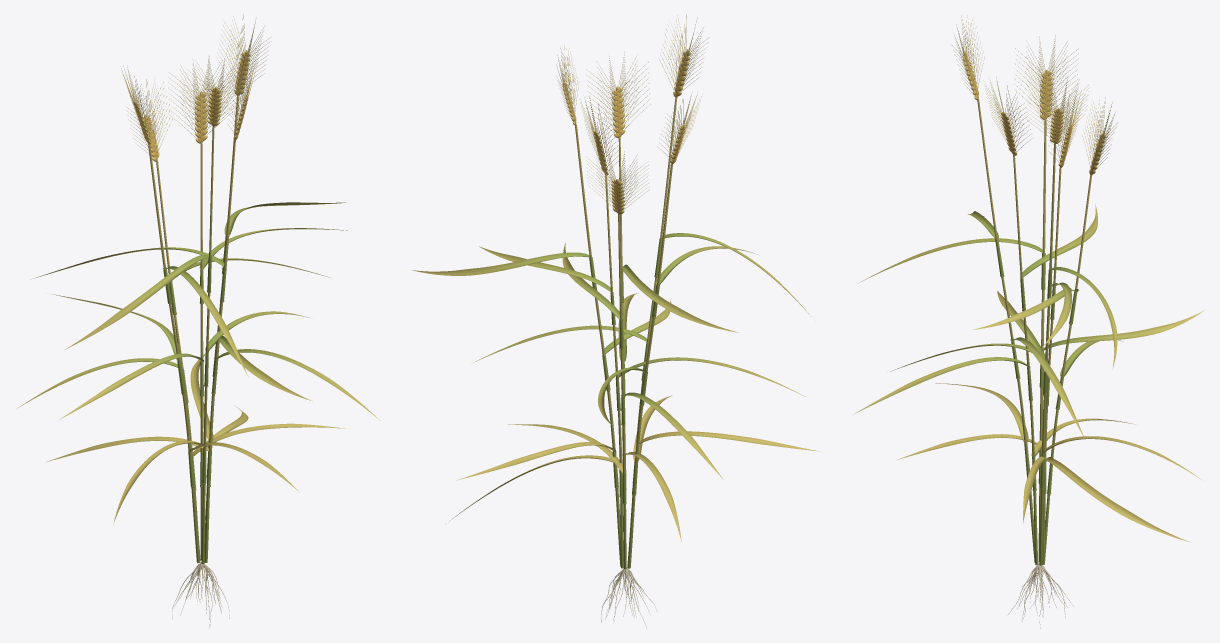
File: 58_Bugdoydoshlar.glb
3 views of the same model, side by side, from view 1: azimuth 30°, elevation 25°; view 2: azimuth 150°, elevation 25°; view 3: azimuth 270°, elevation 25° (orthographic). The views are drawn at different scales.
Parts seen in each view (by area): view 1: leaf, matte, stem, root; view 2: leaf, matte, stem, root; view 3: leaf, matte, stem, root.
Boxes of the visible parts, bbox=[...] form: leaf: bbox=[17, 202, 380, 523]; matte: bbox=[120, 14, 270, 161]; stem: bbox=[148, 94, 238, 564]; root: bbox=[172, 562, 229, 628]; leaf: bbox=[411, 233, 820, 541]; matte: bbox=[556, 14, 709, 214]; stem: bbox=[575, 96, 677, 569]; root: bbox=[601, 567, 657, 627]; leaf: bbox=[853, 205, 1204, 542]; matte: bbox=[952, 15, 1117, 174]; stem: bbox=[977, 98, 1091, 565]; root: bbox=[1008, 563, 1073, 628].
Size of the model in its own units: 0.7934 by 1.3 by 0.7094.
